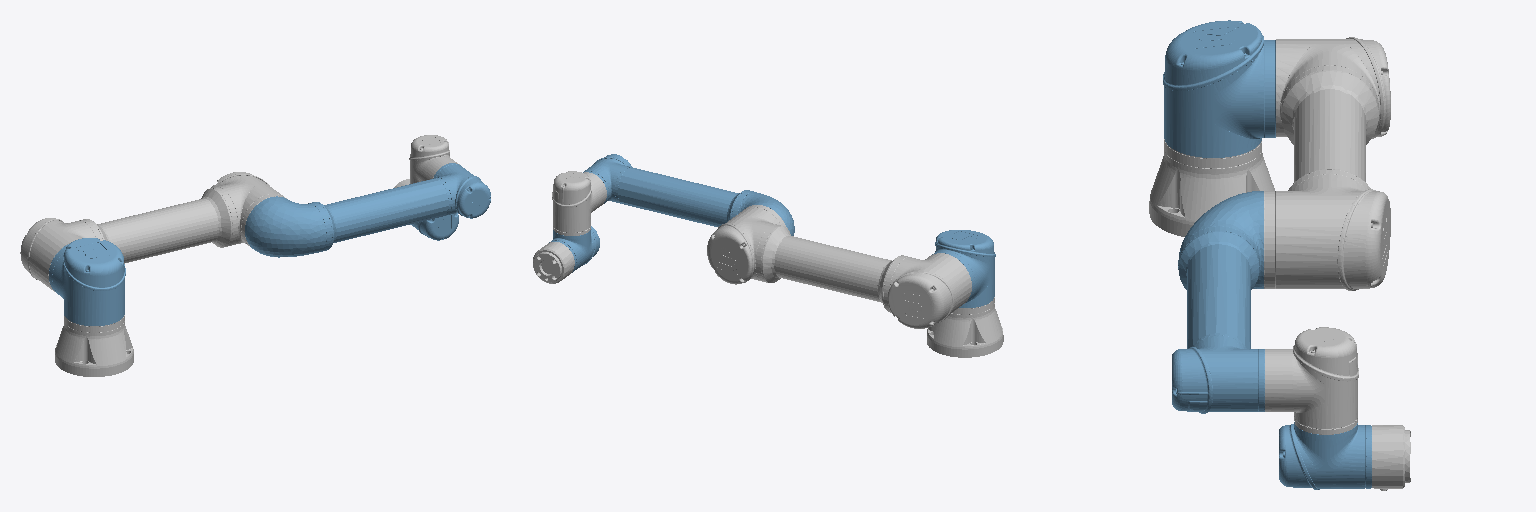
URDF robot description (ur5e):
<?xml version="1.0" encoding="utf-8"?>
<!-- =================================================================================== -->
<!-- |    This document was autogenerated by xacro from ur5e_robot.urdf.xacro          | -->
<!-- |    EDITING THIS FILE BY HAND IS NOT RECOMMENDED                                 | -->
<!-- =================================================================================== -->
<robot name="ur5e" xmlns:xacro="http://wiki.ros.org/xacro">
  <material name="LightGrey">
    <color rgba="0.8 0.8 0.8 1.0"/>
  </material>
  <material name="LightBlue">
    <color rgba="0.49 0.67 0.8 1.0"/>
  </material>
  <!--property name="shoulder_height" value="0.089159" /-->
  <!--property name="shoulder_offset" value="0.13585" /-->
  <!-- shoulder_offset - elbow_offset + wrist_1_length = 0.10915 -->
  <!--property name="upper_arm_length" value="0.42500" /-->
  <!--property name="elbow_offset" value="0.1197" /-->
  <!-- CAD measured -->
  <!--property name="forearm_length" value="0.39225" /-->
  <!--property name="wrist_1_length" value="0.093" /-->
  <!-- CAD measured -->
  <!--property name="wrist_2_length" value="0.09465" /-->
  <!-- In CAD this distance is 0.930, but in the spec it is 0.09465 -->
  <!--property name="wrist_3_length" value="0.0823" /-->
  <!-- manually measured -->
  <link name="base_link">
    <visual>
      <geometry>
        <mesh filename="visual/base.obj"/>
      </geometry>
      <material name="LightGrey"/>
    </visual>
    <collision>
      <geometry>
        <mesh filename="collision/base.stl"/>
      </geometry>
    </collision>
    <inertial>
      <mass value="4.0"/>
      <origin rpy="0 0 0" xyz="0.0 0.0 0.0"/>
      <inertia ixx="0.00443333156" ixy="0.0" ixz="0.0" iyy="0.00443333156" iyz="0.0" izz="0.0072"/>
    </inertial>
  </link>
  <joint name="shoulder_pan_joint" type="revolute">
    <parent link="base_link"/>
    <child link="shoulder_link"/>
    <origin rpy="0.0 0.0 0.0" xyz="0.0 0.0 0.163"/>
    <axis xyz="0 0 1"/>
    <limit effort="150.0" lower="-6.283185307179586" upper="6.283185307179586" velocity="3.14"/>
    <dynamics damping="0.0" friction="0.0"/>
  </joint>
  <link name="shoulder_link">
    <visual>
      <geometry>
        <mesh filename="visual/shoulder.obj"/>
      </geometry>
      <material name="LightBlue"/>
    </visual>
    <collision>
      <geometry>
        <mesh filename="collision/shoulder.stl"/>
      </geometry>
    </collision>
    <inertial>
      <mass value="3.7"/>
      <origin rpy="0 0 0" xyz="0.0 0.0 0.0"/>
      <inertia ixx="0.010267495893" ixy="0.0" ixz="0.0" iyy="0.010267495893" iyz="0.0" izz="0.00666"/>
    </inertial>
  </link>
  <joint name="shoulder_lift_joint" type="revolute">
    <parent link="shoulder_link"/>
    <child link="upper_arm_link"/>
    <origin rpy="0.0 1.5707963267948966 0.0" xyz="0.0 0.138 0.0"/>
    <axis xyz="0 1 0"/>
    <limit effort="150.0" lower="-6.283185307179586" upper="6.283185307179586" velocity="3.14"/>
    <dynamics damping="0.0" friction="0.0"/>
  </joint>
  <link name="upper_arm_link">
    <visual>
      <geometry>
        <mesh filename="visual/upperarm.obj"/>
      </geometry>
      <material name="LightGrey"/>
    </visual>
    <collision>
      <geometry>
        <mesh filename="collision/upperarm.stl"/>
      </geometry>
    </collision>
    <inertial>
      <mass value="8.393"/>
      <origin rpy="0 0 0" xyz="0.0 0.0 0.2125"/>
      <inertia ixx="0.1338857818623325" ixy="0.0" ixz="0.0" iyy="0.1338857818623325" iyz="0.0" izz="0.0151074"/>
    </inertial>
  </link>
  <joint name="elbow_joint" type="revolute">
    <parent link="upper_arm_link"/>
    <child link="forearm_link"/>
    <origin rpy="0.0 0.0 0.0" xyz="0.0 -0.131 0.425"/>
    <axis xyz="0 1 0"/>
    <limit effort="150.0" lower="-3.141592653589793" upper="3.141592653589793" velocity="3.14"/>
    <dynamics damping="0.0" friction="0.0"/>
  </joint>
  <link name="forearm_link">
    <visual>
      <geometry>
        <mesh filename="visual/forearm.obj"/>
      </geometry>
      <material name="LightBlue"/>
    </visual>
    <collision>
      <geometry>
        <mesh filename="collision/forearm.stl"/>
      </geometry>
    </collision>
    <inertial>
      <mass value="2.275"/>
      <origin rpy="0 0 0" xyz="0.0 0.0 0.196"/>
      <inertia ixx="0.031179620861480004" ixy="0.0" ixz="0.0" iyy="0.031179620861480004" iyz="0.0" izz="0.004095"/>
    </inertial>
  </link>
  <joint name="wrist_1_joint" type="revolute">
    <parent link="forearm_link"/>
    <child link="wrist_1_link"/>
    <origin rpy="0.0 1.5707963267948966 0.0" xyz="0.0 0.0 0.392"/>
    <axis xyz="0 1 0"/>
    <limit effort="28.0" lower="-6.283185307179586" upper="6.283185307179586" velocity="6.28"/>
    <dynamics damping="0.0" friction="0.0"/>
  </joint>
  <link name="wrist_1_link">
    <visual>
      <geometry>
        <mesh filename="visual/wrist1.obj"/>
      </geometry>
      <material name="LightGrey"/>
    </visual>
    <collision>
      <geometry>
        <mesh filename="collision/wrist1.stl"/>
      </geometry>
    </collision>
    <inertial>
      <mass value="1.219"/>
      <origin rpy="0 0 0" xyz="0.0 0.127 0.0"/>
      <inertia ixx="0.0025598989760400002" ixy="0.0" ixz="0.0" iyy="0.0025598989760400002" iyz="0.0" izz="0.0021942"/>
    </inertial>
  </link>
  <joint name="wrist_2_joint" type="revolute">
    <parent link="wrist_1_link"/>
    <child link="wrist_2_link"/>
    <origin rpy="0.0 0.0 0.0" xyz="0.0 0.127 0.0"/>
    <axis xyz="0 0 1"/>
    <limit effort="28.0" lower="-6.283185307179586" upper="6.283185307179586" velocity="6.28"/>
    <dynamics damping="0.0" friction="0.0"/>
  </joint>
  <link name="wrist_2_link">
    <visual>
      <geometry>
        <mesh filename="visual/wrist2.obj"/>
      </geometry>
      <material name="LightBlue"/>
    </visual>
    <collision>
      <geometry>
        <mesh filename="collision/wrist2.stl"/>
      </geometry>
    </collision>
    <inertial>
      <mass value="1.219"/>
      <origin rpy="0 0 0" xyz="0.0 0.0 0.1"/>
      <inertia ixx="0.0025598989760400002" ixy="0.0" ixz="0.0" iyy="0.0025598989760400002" iyz="0.0" izz="0.0021942"/>
    </inertial>
  </link>
  <joint name="wrist_3_joint" type="revolute">
    <parent link="wrist_2_link"/>
    <child link="wrist_3_link"/>
    <origin rpy="0.0 0.0 0.0" xyz="0.0 0.0 0.1"/>
    <axis xyz="0 1 0"/>
    <limit effort="28.0" lower="-6.283185307179586" upper="6.283185307179586" velocity="6.28"/>
    <dynamics damping="0.0" friction="0.0"/>
  </joint>
  <link name="wrist_3_link">
    <visual>
      <geometry>
        <mesh filename="visual/wrist3.obj"/>
      </geometry>
      <material name="LightGrey"/>
    </visual>
    <collision>
      <geometry>
        <mesh filename="collision/wrist3.stl"/>
      </geometry>
    </collision>
    <inertial>
      <mass value="0.1879"/>
      <origin rpy="1.5707963267948966 0 0" xyz="0.0 0.0771 0.0"/>
      <inertia ixx="9.890410052167731e-05" ixy="0.0" ixz="0.0" iyy="9.890410052167731e-05" iyz="0.0" izz="0.0001321171875"/>
    </inertial>
  </link>
  <joint name="ee_fixed_joint" type="fixed">
    <parent link="wrist_3_link"/>
    <child link="ee_link"/>
    <origin rpy="0.0 0.0 1.5707963267948966" xyz="0.0 0.1 0.0"/>
  </joint>
  <link name="ee_link">
    <collision>
      <geometry>
        <box size="0.01 0.01 0.01"/>
      </geometry>
      <origin rpy="0 0 0" xyz="-0.01 0 0"/>
    </collision>
    <inertial>
      <mass value="0.0"/>
      <origin rpy="0 0 0" xyz="0.0 0.0 0.0"/>
      <inertia ixx="0.0" ixy="0.0" ixz="0.0" iyy="0.0" iyz="0.0" izz="0.0"/>
    </inertial>
  </link>
</robot>

--- Render facts (derived) ---
3 views of the same robot in one strip: view 1: azimuth 30°, elevation 25°; view 2: azimuth 150°, elevation 25°; view 3: azimuth 270°, elevation 25° (orthographic).
Robot: ur5e — 8 links, 7 joints (6 revolute, 1 fixed); root link base_link; default pose: every joint at zero.
Visible links, largest first — view 1: forearm_link, upper_arm_link, shoulder_link, base_link, wrist_1_link, wrist_2_link; view 2: upper_arm_link, forearm_link, base_link, wrist_1_link, shoulder_link, wrist_3_link, wrist_2_link; view 3: upper_arm_link, forearm_link, shoulder_link, wrist_1_link, base_link, wrist_2_link, wrist_3_link.
Link boxes in pixels (<box>): forearm_link: <box>245,163,490,257</box>; upper_arm_link: <box>20,172,286,291</box>; shoulder_link: <box>49,238,125,325</box>; base_link: <box>55,315,133,376</box>; wrist_1_link: <box>409,135,459,183</box>; wrist_2_link: <box>410,213,458,240</box>; upper_arm_link: <box>707,205,971,328</box>; forearm_link: <box>583,154,794,235</box>; base_link: <box>927,297,1003,357</box>; wrist_1_link: <box>552,171,606,235</box>; shoulder_link: <box>932,230,995,307</box>; wrist_3_link: <box>533,242,574,283</box>; wrist_2_link: <box>549,226,599,272</box>; upper_arm_link: <box>1264,37,1390,290</box>; forearm_link: <box>1172,191,1264,413</box>; shoulder_link: <box>1163,20,1275,157</box>; wrist_1_link: <box>1265,327,1358,434</box>; base_link: <box>1149,139,1274,236</box>; wrist_2_link: <box>1279,422,1371,489</box>; wrist_3_link: <box>1372,425,1410,490</box>.
Size in the robot's own frame: 0.9318 by 0.3085 by 0.2345 metres.
Meshes: 7 distinct files referenced, 7 mesh visuals loaded (7 OBJ).